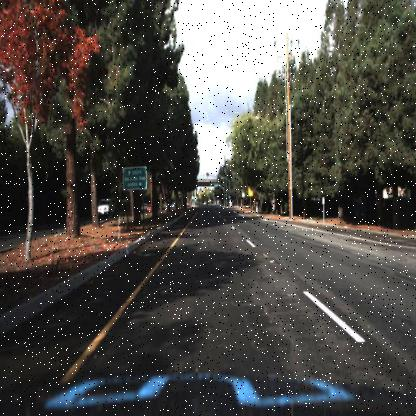car: (96, 196, 112, 221), (100, 195, 115, 217)
